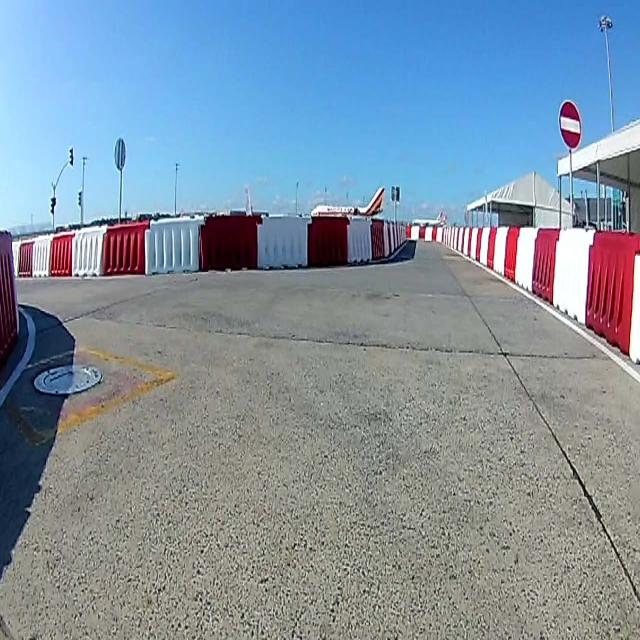girisyok: (558, 98, 580, 147)
